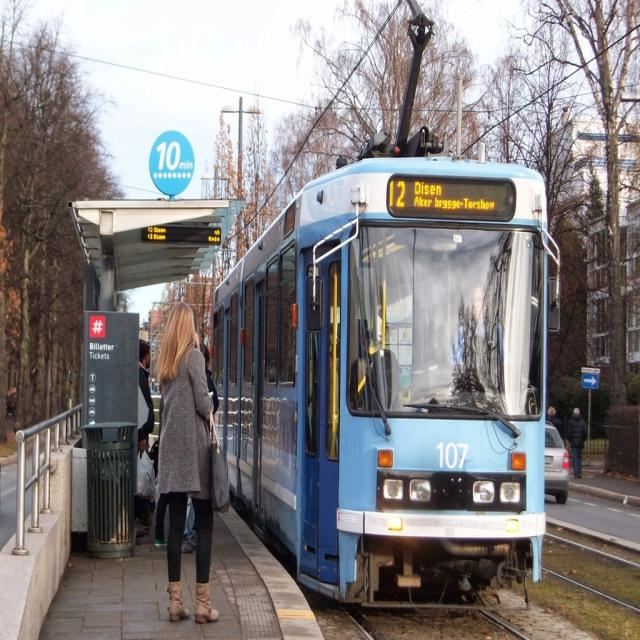car: (541, 415, 568, 504)
